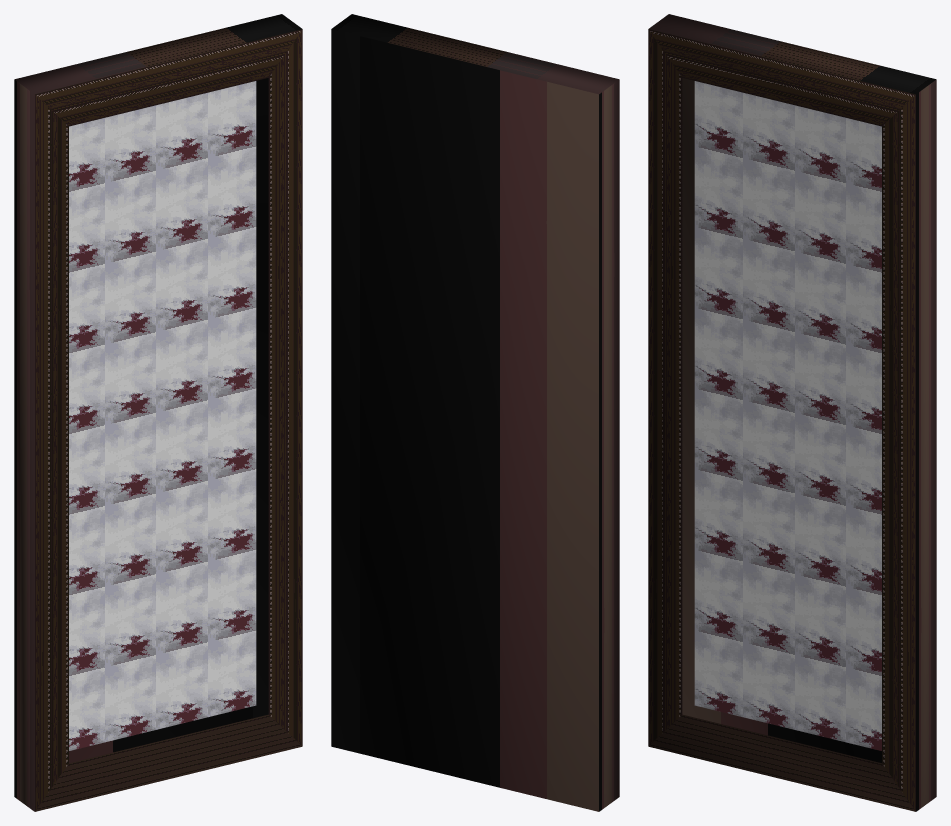
File: 3177IMFY05_09.gltf
3 views of the same model, side by side, from view 1: azimuth 30°, elevation 25°; view 2: azimuth 150°, elevation 25°; view 3: azimuth 330°, elevation 25° (orthographic).
Parts seen in each view (by area): view 1: 3177IMFY05_09; view 2: 3177IMFY05_09; view 3: 3177IMFY05_09.
Part boxes in pixels (x1,y1,x2,y2): 3177IMFY05_09: (14,14,302,811); 3177IMFY05_09: (331,14,619,811); 3177IMFY05_09: (648,14,936,811).
Size of what is drawn, in the model's own units: 0.9097 by 2.33 by 0.1211.
3 materials, 3 textured.
